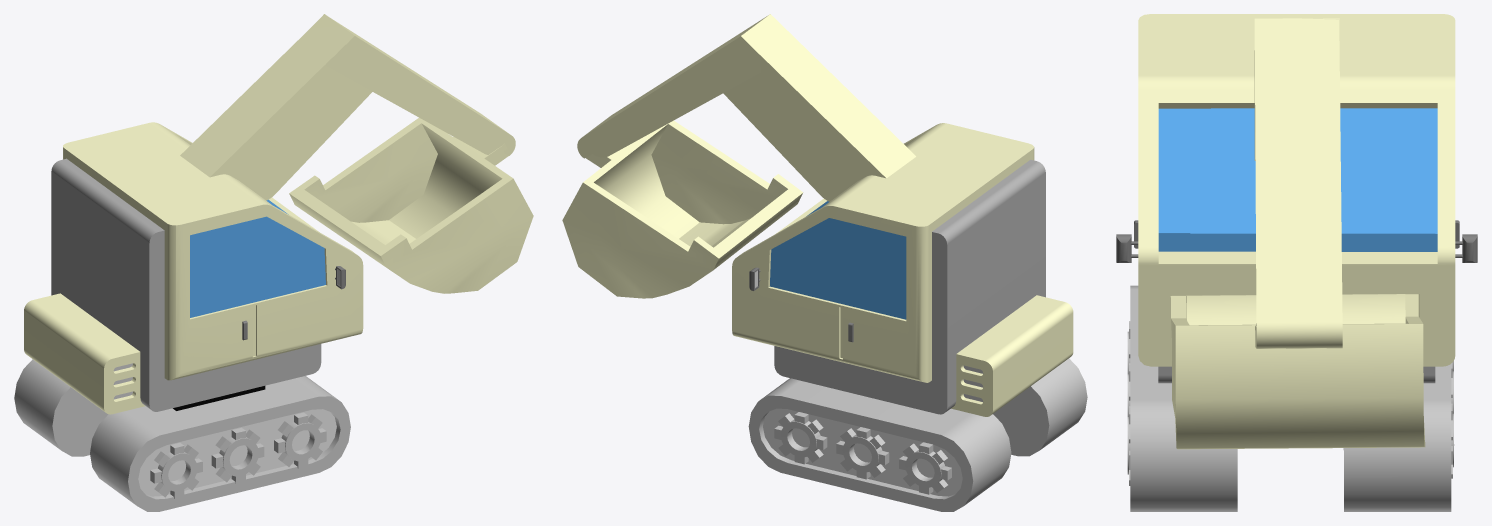
Rendered from Digger.fbx.
3 renders of one model, left to right at view 1: azimuth 30°, elevation 25°; view 2: azimuth 150°, elevation 25°; view 3: azimuth 270°, elevation 25°, orthographic. The views are drawn at different scales.
Visible parts, largest first — view 1: pCylinder12; view 2: pCylinder12; view 3: pCylinder12.
Part boxes in pixels (<box>): pCylinder12: <box>14,14,533,511</box>; pCylinder12: <box>562,14,1087,511</box>; pCylinder12: <box>1116,14,1477,511</box>.
Size of the model in its own units: 3.37 by 2.84 by 1.71.
